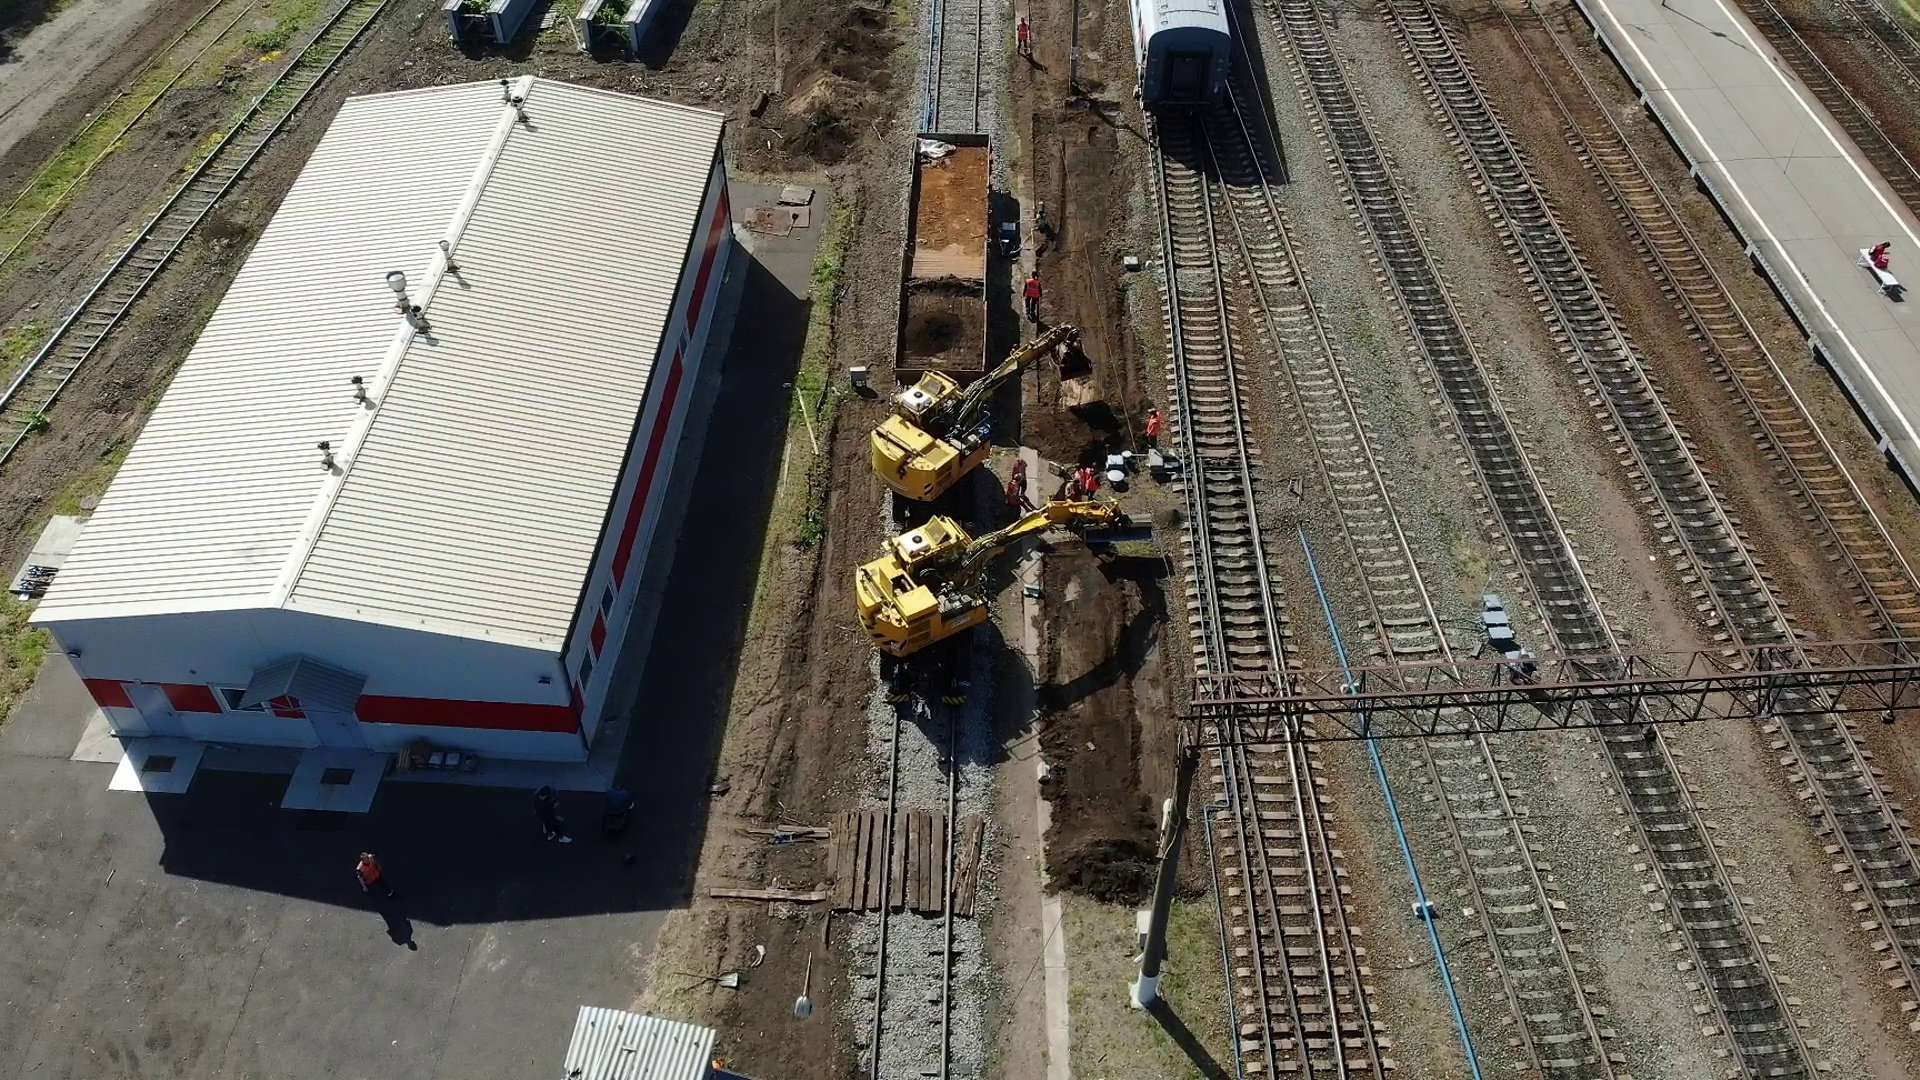kjtv: (859, 509, 1052, 699), (869, 350, 1026, 498)
